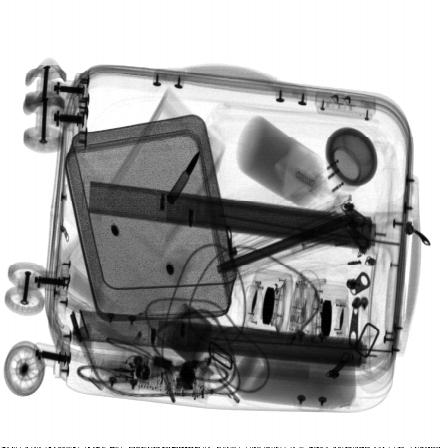Bullet: (166, 149, 201, 205)
